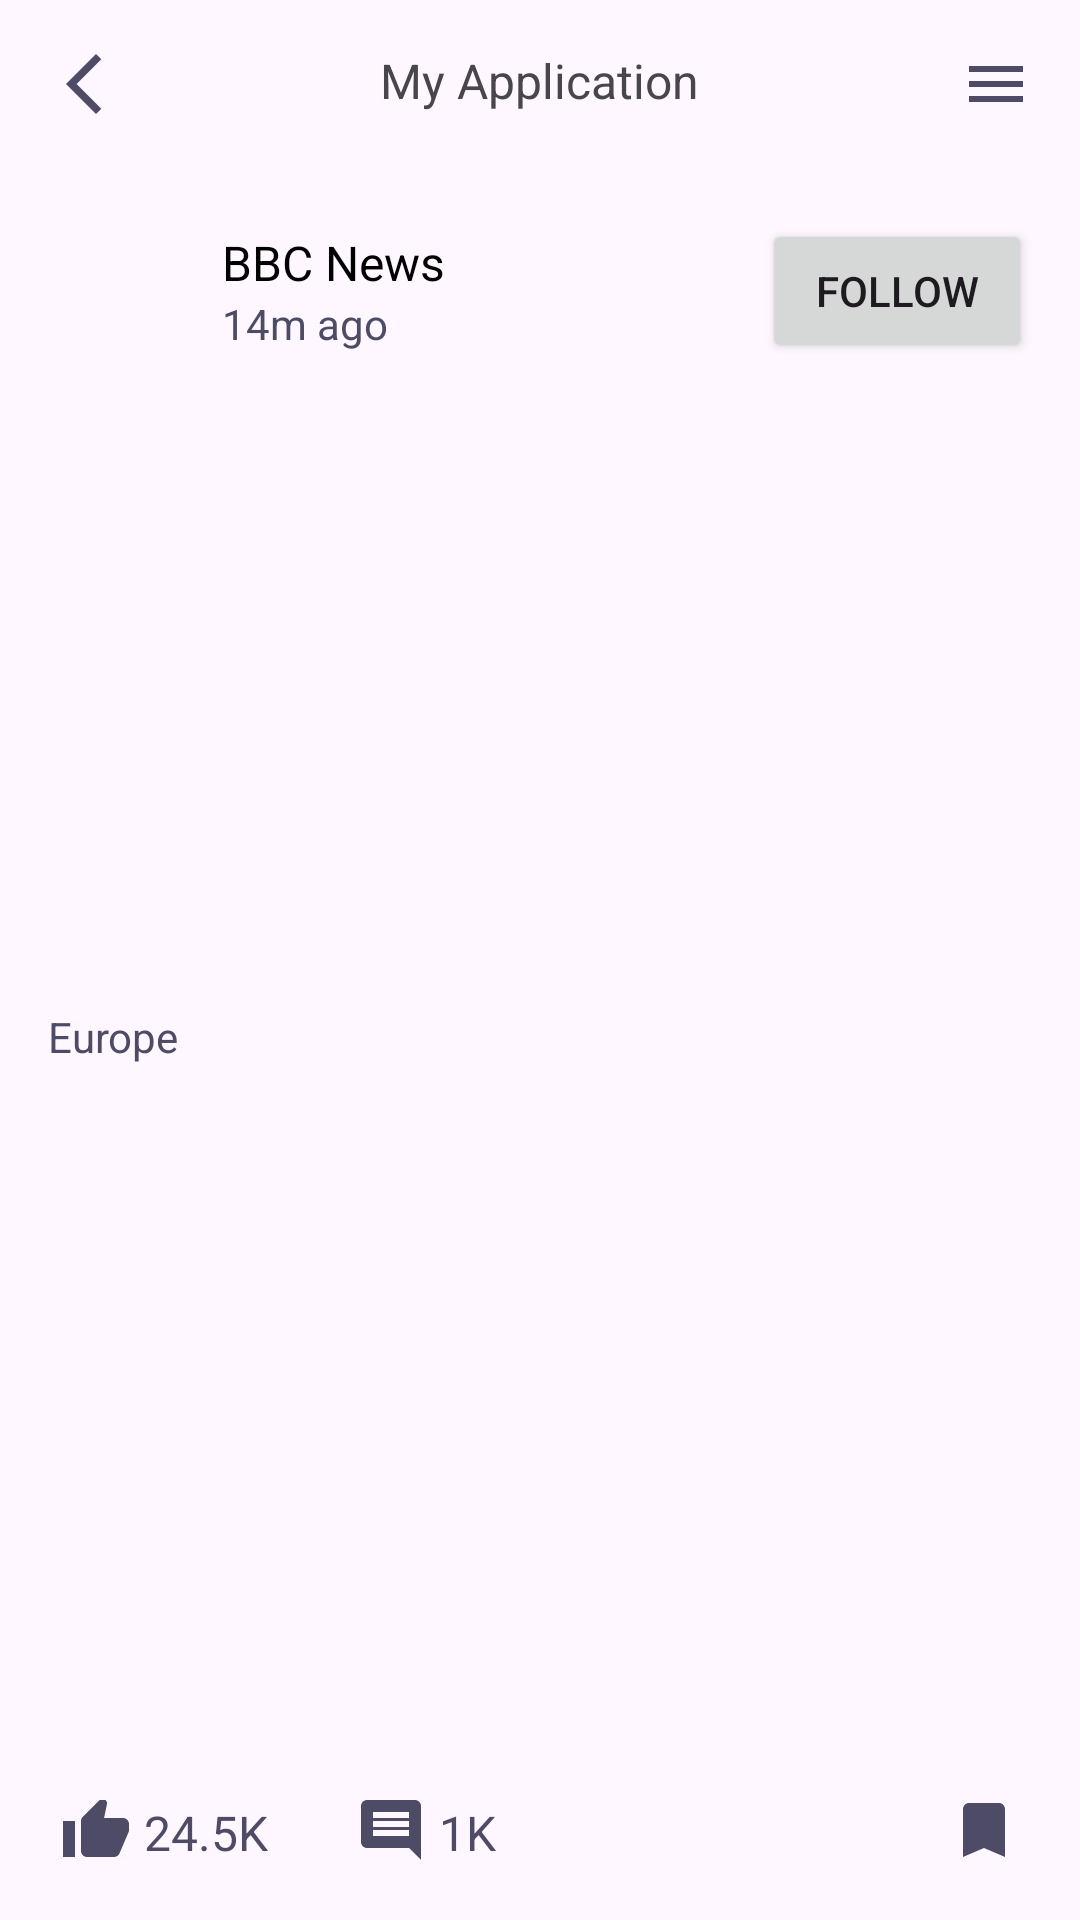

Named icons in this screenshot (1080x1920) and their centers, point (x, y):
arrow back: point (83, 84)
bookmark: point (984, 1830)
comment: point (391, 1830)
menu: point (996, 84)
thumb up: point (96, 1828)
